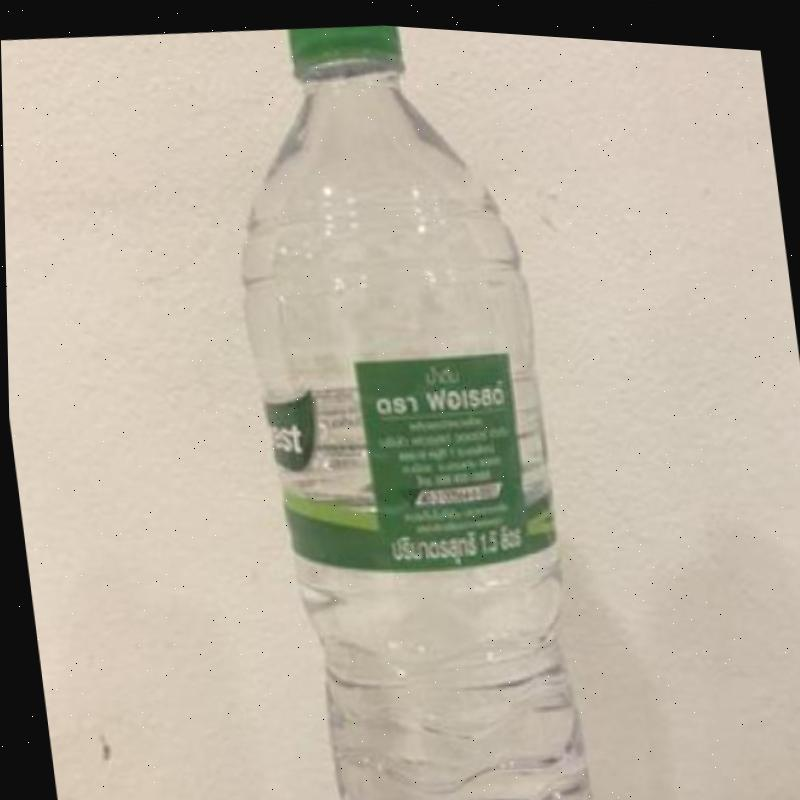botella: (212, 11, 596, 800)
